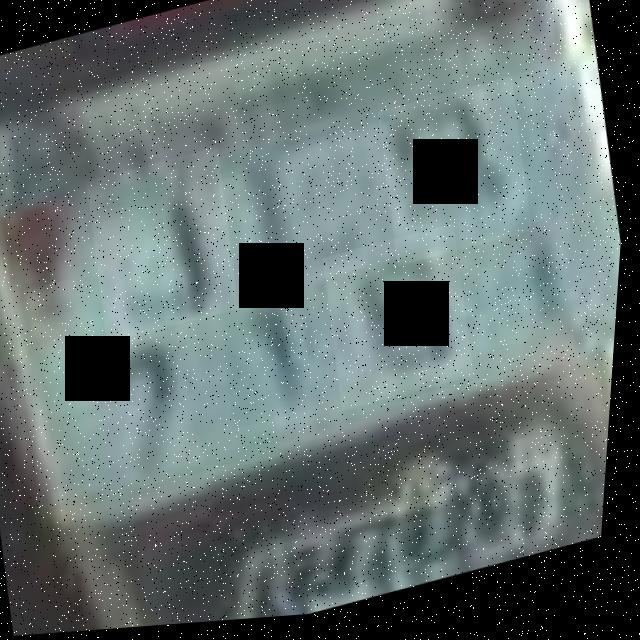1: (213, 275, 335, 435)
6: (318, 228, 488, 420)
7: (64, 311, 221, 481)
J: (80, 148, 252, 347), (209, 119, 381, 307)
N: (371, 82, 544, 274)
